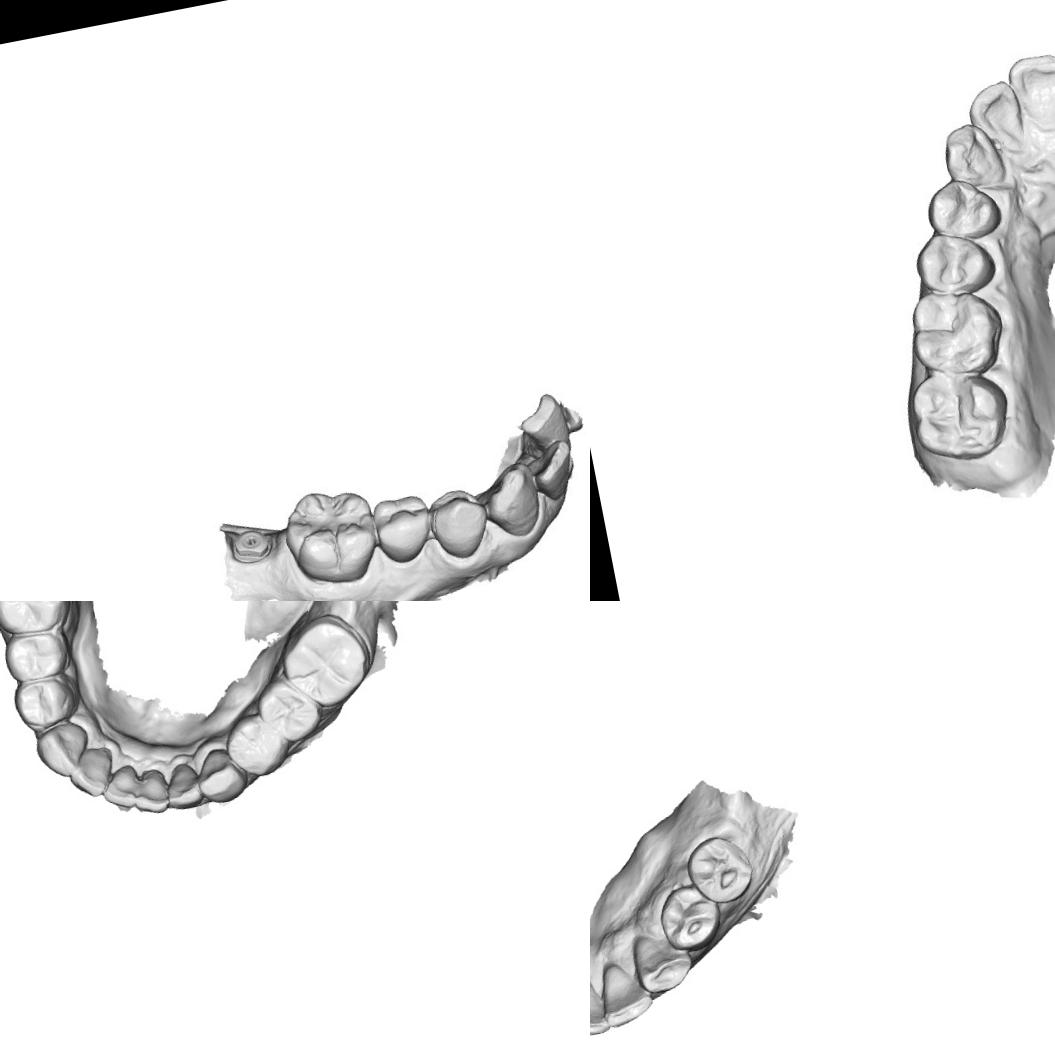canine: (473, 458, 546, 544), (627, 926, 698, 999), (938, 116, 1006, 192), (28, 717, 96, 783), (191, 742, 251, 807)
implant: (222, 523, 276, 574)
incisor: (967, 78, 1028, 154), (594, 957, 656, 1030), (1006, 48, 1055, 133), (527, 438, 581, 503), (62, 743, 118, 802), (520, 395, 571, 448), (160, 758, 207, 814), (97, 761, 145, 812), (127, 766, 173, 816), (590, 972, 611, 1040)
molar: (276, 478, 385, 594), (907, 365, 1017, 469), (272, 606, 376, 714), (904, 282, 1008, 382), (0, 601, 79, 640)
premolar: (905, 224, 997, 301), (920, 170, 1005, 248), (681, 828, 758, 910), (250, 668, 326, 748), (218, 707, 292, 782), (653, 878, 728, 952), (427, 485, 492, 565), (370, 490, 434, 567), (8, 670, 84, 734), (1, 625, 72, 685)
